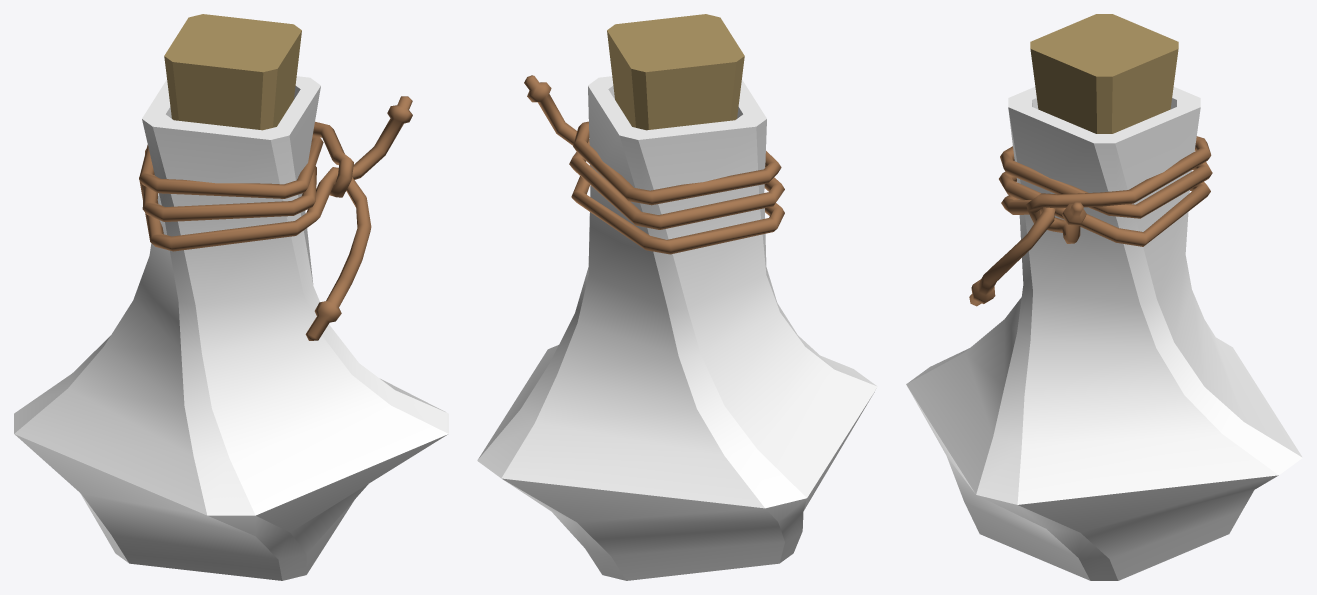
File: mana_potion.fbx
The picture shows the model from 3 angles, left to right: view 1: azimuth 30°, elevation 25°; view 2: azimuth 150°, elevation 25°; view 3: azimuth 270°, elevation 25°; orthographic projection.
Parts seen in each view (by area): view 1: Cube; view 2: Cube; view 3: Cube.
Boxes of the visible parts, bbox=[...] form: Cube: bbox=[14, 14, 448, 580]; Cube: bbox=[477, 14, 877, 580]; Cube: bbox=[906, 14, 1302, 580].
Size of the model in its own units: 32.84 by 44.17 by 32.84.
